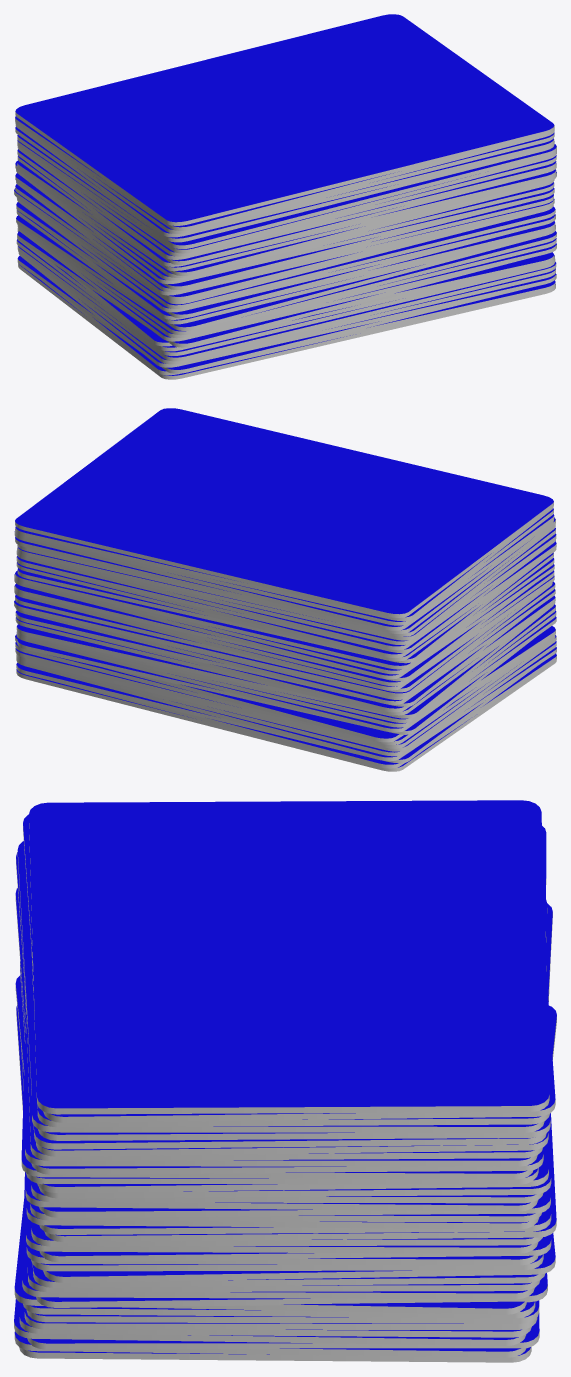
The model's file is CardDeck.fbx.
3 renders of one model, top to bottom at view 1: azimuth 30°, elevation 25°; view 2: azimuth 150°, elevation 25°; view 3: azimuth 270°, elevation 25°, orthographic. The views are drawn at different scales.
Parts seen in each view (by area): view 1: Cube.039, Cube.034, Cube.018, Cube.013, Cube.012, Cube.005, Cube.031, Cube.035, Cube.036, Cube.017, Cube.024, Cube.003 (+28 smaller); view 2: Cube.039, Cube.026, Cube.013, Cube.019, Cube.008, Cube.017, Cube.024, Cube.036, Cube.003, Cube.031, Cube.010, Cube.035 (+28 smaller); view 3: Cube.039, Cube.034, Cube.013, Cube.038, Cube.036, Cube.031, Cube.024, Cube.010, Cube.019, Cube.033, Cube.008, Cube.009 (+28 smaller).
Boxes of the visible parts, x1,y1,x2,y2 form: Cube.039: (15,14,554,225); Cube.034: (17,135,556,248); Cube.018: (16,197,555,308); Cube.013: (16,215,555,330); Cube.012: (17,224,556,335); Cube.005: (17,246,556,361); Cube.031: (17,146,556,259); Cube.035: (15,127,554,242); Cube.036: (15,124,554,237); Cube.017: (17,199,555,312); Cube.024: (16,170,553,284); Cube.003: (18,253,555,367); Cube.039: (15,408,553,617); Cube.026: (15,552,553,669); Cube.013: (16,606,552,718); Cube.019: (14,582,552,696); Cube.008: (15,626,555,742); Cube.017: (15,589,555,704); Cube.024: (14,564,554,679); Cube.036: (14,514,554,630); Cube.003: (16,647,556,761); Cube.031: (16,533,556,650); Cube.010: (16,616,556,732); Cube.035: (15,520,553,633); Cube.039: (29,800,549,1114); Cube.034: (17,841,546,1149); Cube.013: (15,975,555,1282); Cube.038: (23,814,555,1122); Cube.036: (32,826,546,1132); Cube.031: (25,1014,537,1166); Cube.024: (25,903,552,1211); Cube.010: (22,1172,534,1299); Cube.019: (44,1113,556,1242); Cube.033: (16,852,548,1156); Cube.008: (14,1005,556,1314); Cube.009: (16,1005,547,1307).
Size of the model in its own units: 8.74 by 3.28 by 6.38.
